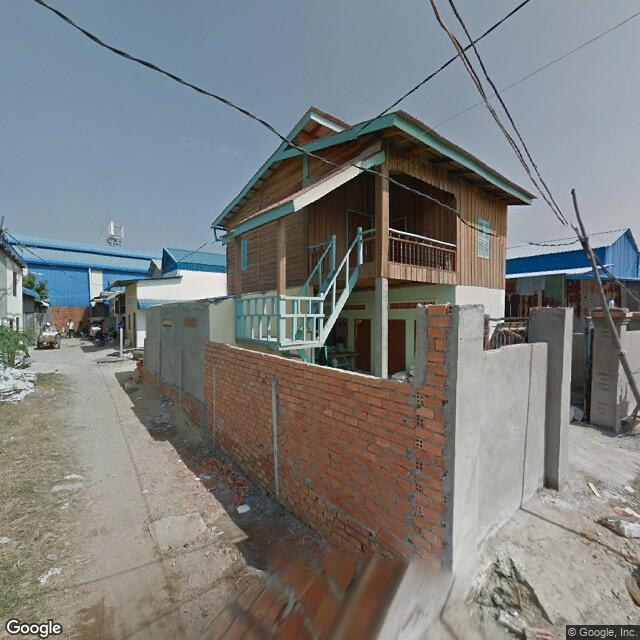litter: (502, 604, 531, 634), (38, 568, 70, 585), (231, 502, 253, 516)
